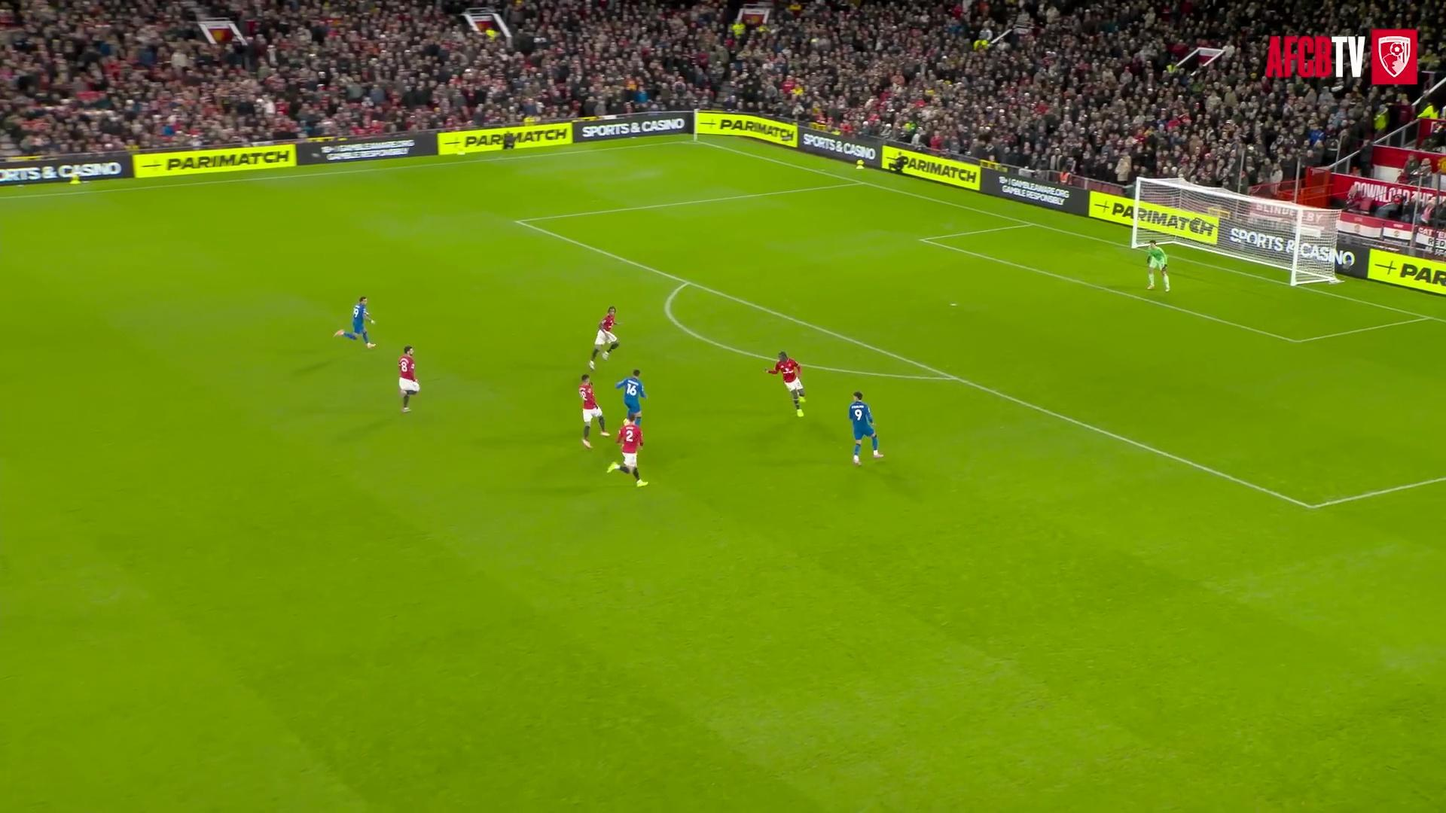player: (607, 419, 648, 486), (849, 391, 883, 464), (767, 352, 805, 416), (579, 375, 608, 448), (334, 297, 375, 348), (589, 306, 618, 369), (615, 369, 645, 424), (398, 346, 419, 413), (1147, 240, 1167, 292)
